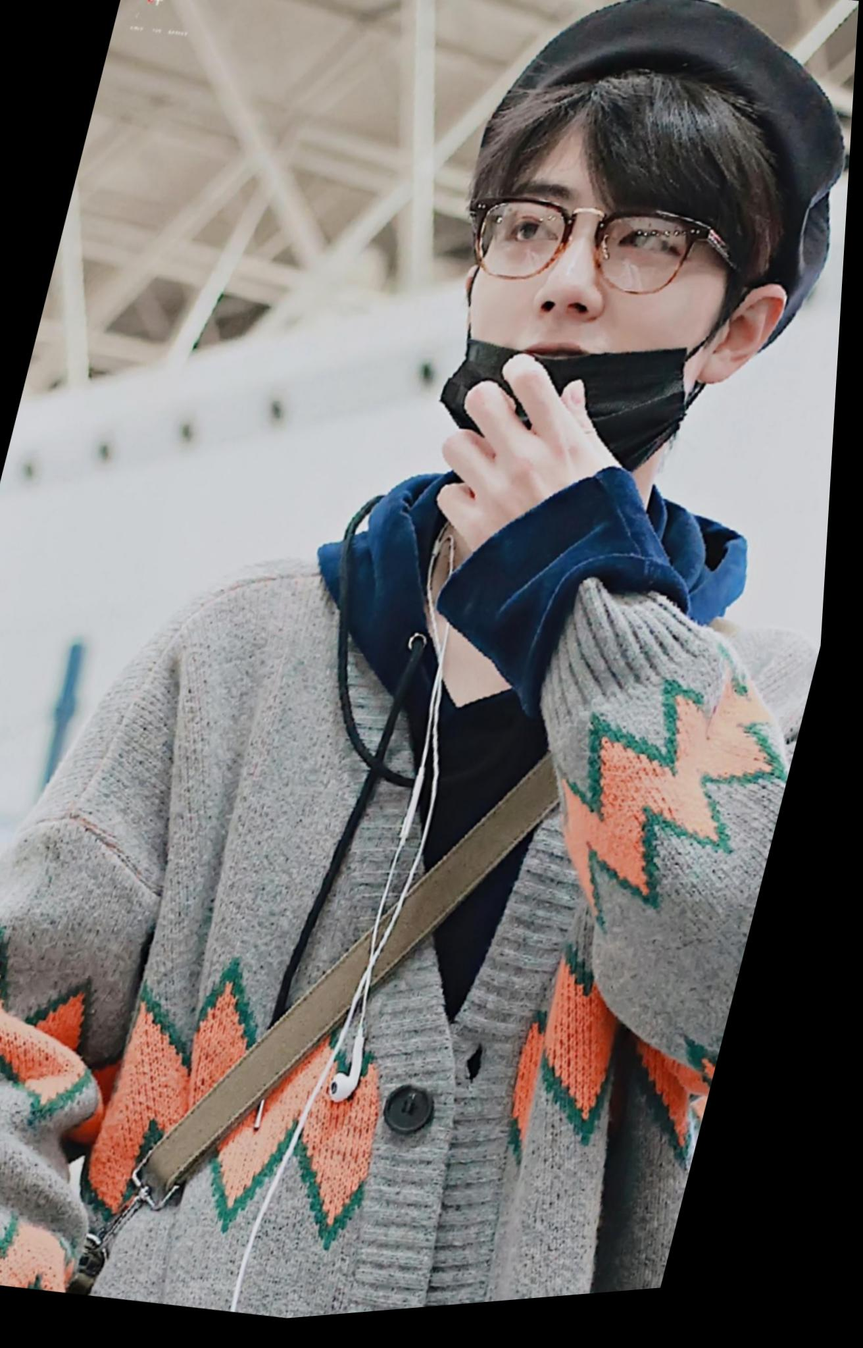WRONG: (427, 145, 755, 525)
